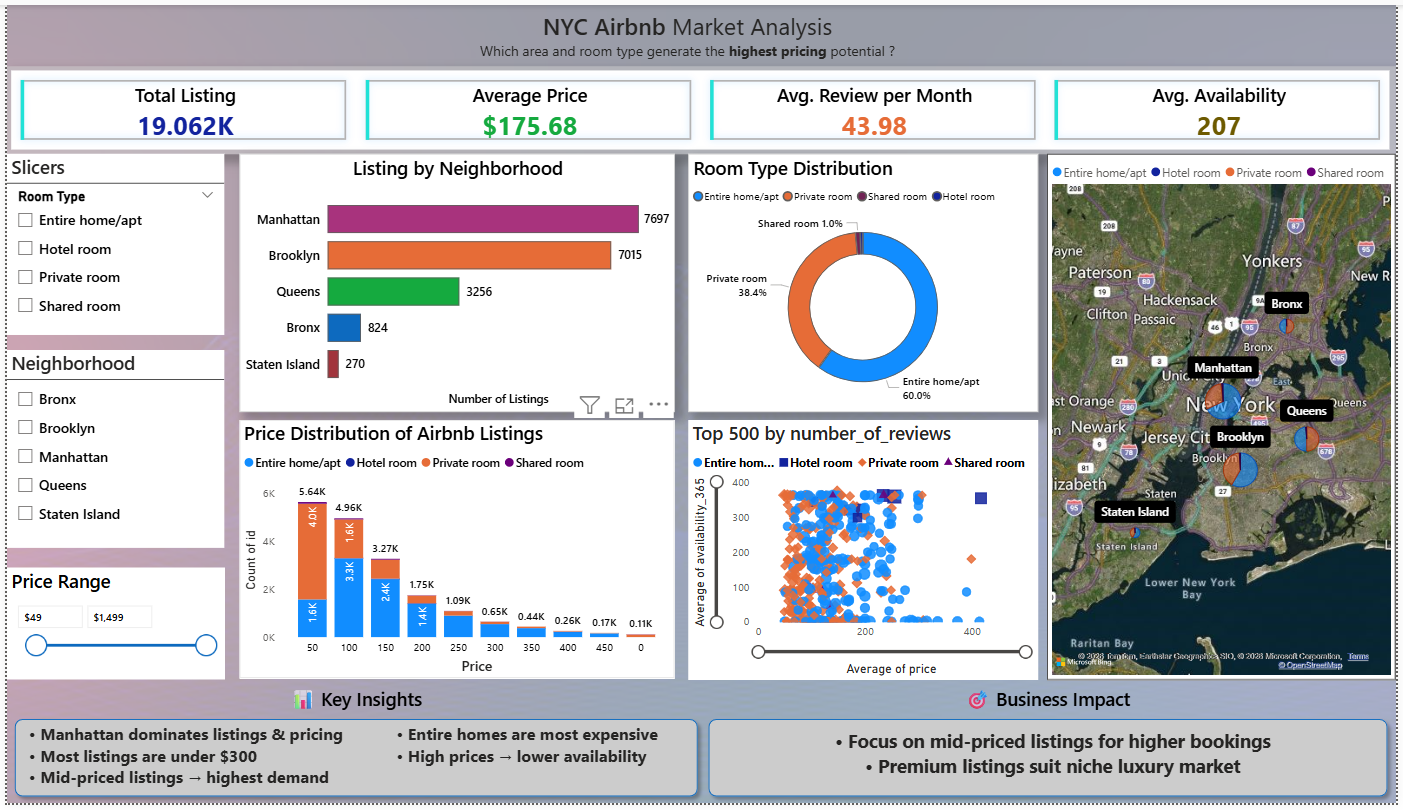

The page's visual inventory and layout, read from the dashboard file:
{"tool":"powerbi","page":{"name":"Page 1","canvas":[1600,920],"ordinal":0},"visuals":[{"type":"cardVisual","fields":{"Data":["CountNonNull(clean_airbnb_data.id)","Avg(clean_airbnb_data.price)","Avg(clean_airbnb_data.number_of_reviews)","Avg(clean_airbnb_data.availability_365)"]},"box":[0,70.3,1600,101.6],"z":0},{"type":"clusteredBarChart","title":"Listing by Neighborhood","fields":{"Category":["clean_airbnb_data.neighbourhood_group"],"Y":["CountNonNull(clean_airbnb_data.id)"]},"box":[267.7,171.9,501.6,297.3],"z":1000},{"type":"donutChart","title":"Room Type Distribution","fields":{"Category":["clean_airbnb_data.room_type"],"Y":["CountNonNull(clean_airbnb_data.price)"]},"box":[784.8,171.9,402.9,297.3],"z":2000},{"type":"map","title":"Map","fields":{"Category":["clean_airbnb_data.neighbourhood_group"],"Y":["Avg(clean_airbnb_data.latitude)"],"X":["Avg(clean_airbnb_data.longitude)"],"Size":["CountNonNull(clean_airbnb_data.id)"],"Series":["clean_airbnb_data.room_type"]},"box":[1198.4,171.9,401.6,606.3],"z":3000},{"type":"textbox","box":[449.4,1,669.5,68.8],"z":4000},{"type":"slicer","title":"Slicers","fields":{"Values":["clean_airbnb_data.room_type"]},"box":[0,171.9,250.8,208.5],"z":5000},{"type":"slicer","title":"Neighborhood","fields":{"Values":["clean_airbnb_data.neighbourhood_group"]},"box":[0,397.3,250.8,228.2],"z":6000},{"type":"slicer","title":"Price Range","fields":{"Values":["clean_airbnb_data.price"]},"box":[0,648.1,250.8,128.2],"z":7000},{"type":"columnChart","title":"Price Distribution of Airbnb Listings","fields":{"Category":["clean_airbnb_data.price (bins)"],"Y":["CountNonNull(clean_airbnb_data.id)"],"Series":["clean_airbnb_data.room_type"]},"box":[267.7,477.6,501.6,298.7],"z":8000},{"type":"scatterChart","title":"Top 500 by number_of_reviews","fields":{"X":["Avg(clean_airbnb_data.price)"],"Y":["Avg(clean_airbnb_data.availability_365)"],"Size":["Sum(clean_airbnb_data.number_of_reviews)"],"Series":["clean_airbnb_data.room_type"],"Category":["clean_airbnb_data.id"]},"box":[785,478,403,299],"z":9000},{"type":"shape","title":"📊 Key Insights","box":[0,784.4,804.7,135.9],"z":9001},{"type":"shape","title":"🎯 Business Impact","box":[800,784.4,800,135.9],"z":9002},{"type":"textbox","box":[20.3,821.9,779.7,85.9],"z":9003},{"type":"textbox","box":[820.3,828,779.7,84.4],"z":9004}]}

Visuals, with their boxes in screenshot pixels (x1, y1, x2, y2), scaled from the page's 1600x920 canvas onto the 1403x810 screenshot:
cardVisual - CountNonNull(clean_airbnb_data.id) x Avg(clean_airbnb_data.price): box=[0, 62, 1402, 151]
"Listing by Neighborhood" clusteredBarChart: box=[235, 151, 675, 413]
"Room Type Distribution" donutChart: box=[688, 151, 1041, 413]
"Map" map: box=[1051, 151, 1402, 685]
textbox: box=[394, 1, 981, 61]
"Slicers" slicer: box=[0, 151, 220, 335]
"Neighborhood" slicer: box=[0, 350, 220, 551]
"Price Range" slicer: box=[0, 571, 220, 683]
"Price Distribution of Airbnb Listings" columnChart: box=[235, 420, 675, 683]
"Top 500 by number_of_reviews" scatterChart: box=[688, 421, 1042, 684]
"📊 Key Insights" shape: box=[0, 691, 706, 809]
"🎯 Business Impact" shape: box=[702, 691, 1402, 809]
textbox: box=[18, 724, 702, 799]
textbox: box=[719, 729, 1402, 803]
